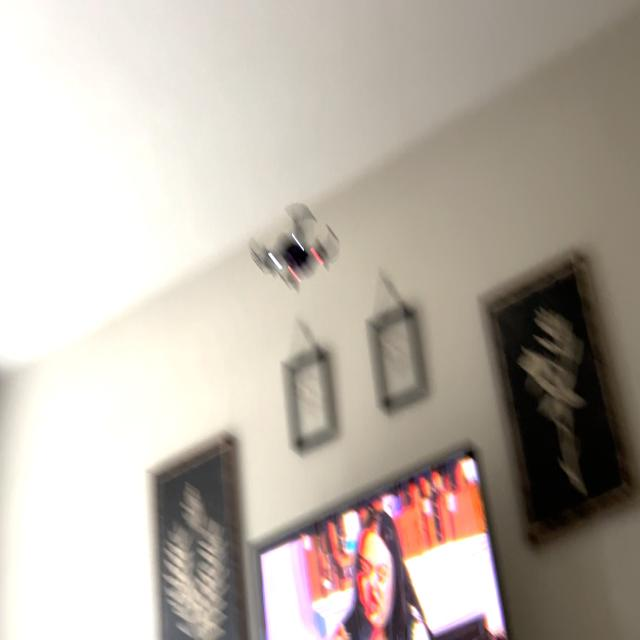drone: (237, 186, 350, 300)
